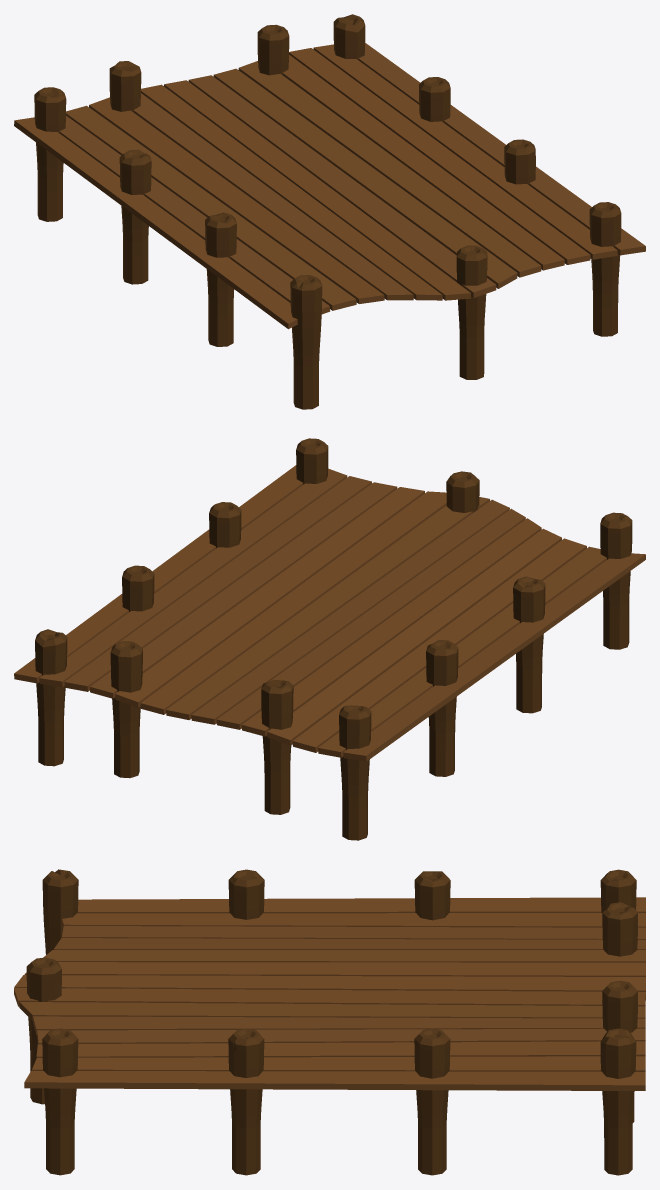
The picture shows the model from 3 angles, top to bottom: view 1: azimuth 30°, elevation 25°; view 2: azimuth 150°, elevation 25°; view 3: azimuth 270°, elevation 25°; orthographic projection. The views are drawn at different scales.
Visible parts, largest first — view 1: E_B_Base; view 2: E_B_Base; view 3: E_B_Base.
Boxes of the visible parts, left/top/right/bottom form: E_B_Base: left=14, top=14, right=645, bottom=409; E_B_Base: left=14, top=438, right=645, bottom=840; E_B_Base: left=14, top=869, right=645, bottom=1175.
Size of the model in its own units: 655 by 244 by 950.
